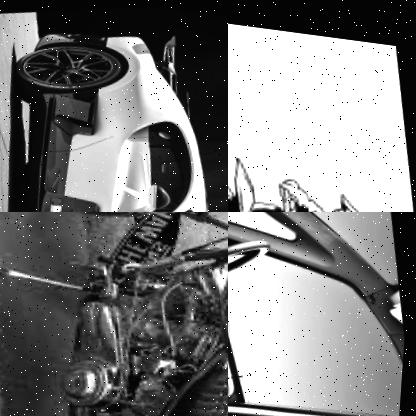bike: (6, 212, 228, 416), (228, 57, 322, 212)
car: (0, 2, 228, 212), (228, 212, 416, 416)
